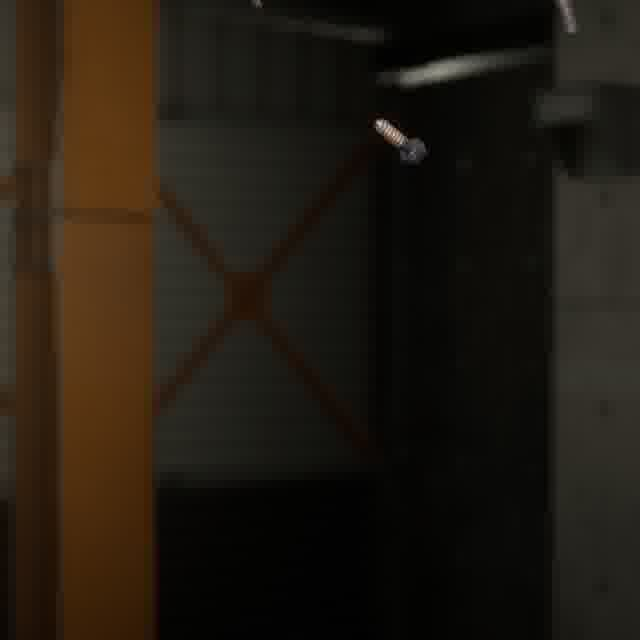bolt: (369, 114, 429, 169), (550, 0, 582, 39)
